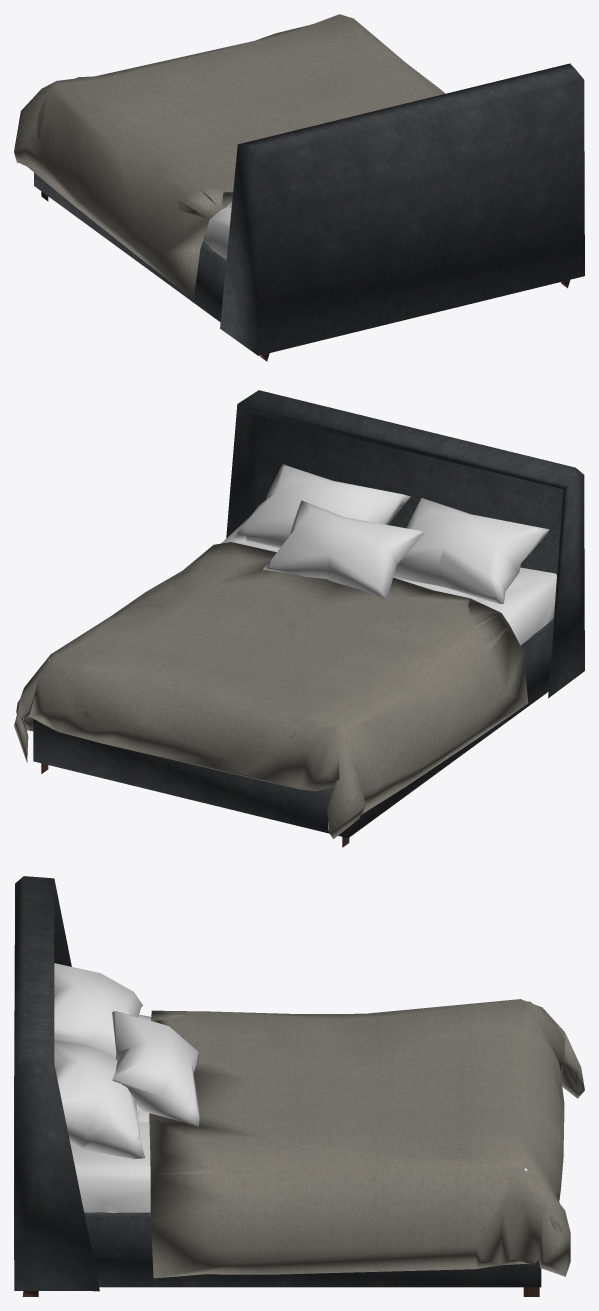
File: cama.obj
3 views of the same model, one above another, from view 1: azimuth 30°, elevation 25°; view 2: azimuth 150°, elevation 25°; view 3: azimuth 270°, elevation 25° (orthographic). The views are drawn at different scales.
Visible parts, largest first — view 1: Plane.001; view 2: Plane.001; view 3: Plane.001.
Part boxes in pixels (x1,y1,x2,y2): Plane.001: [14, 14, 584, 361]; Plane.001: [14, 390, 584, 847]; Plane.001: [14, 876, 584, 1296].
Size of the model in its own units: 26.53 by 15.64 by 32.57.
